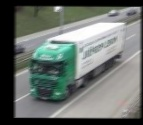truck: (28, 20, 128, 106)
